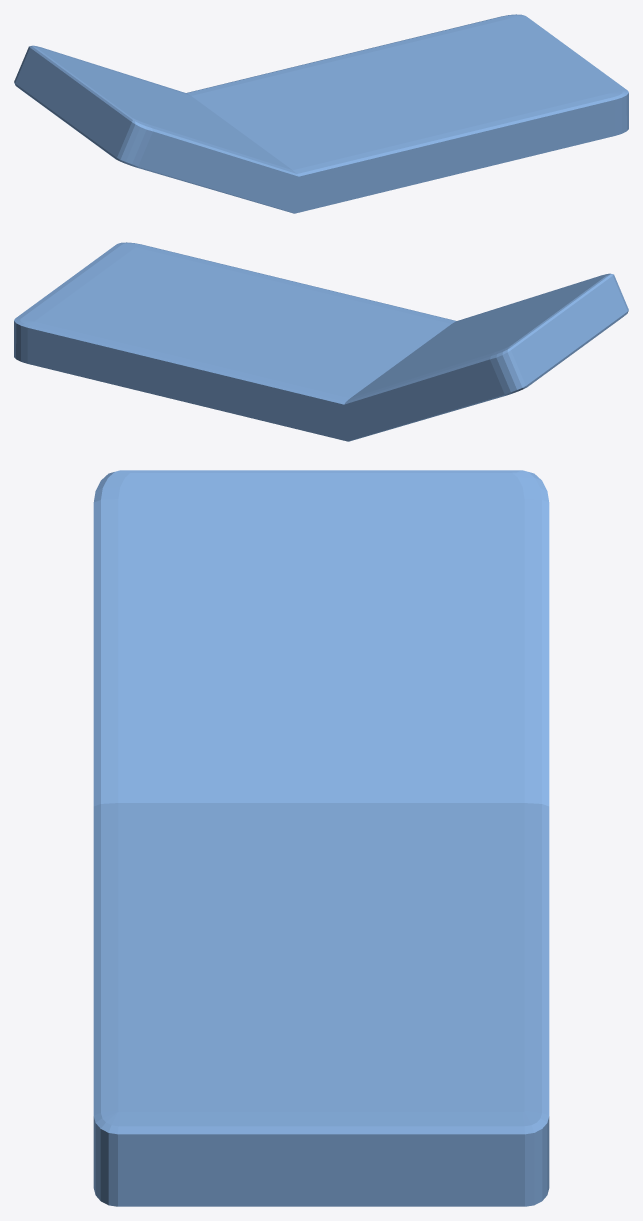
The model's file is Kasur 2.fbx.
3 views of the same model, one above another, from view 1: azimuth 30°, elevation 25°; view 2: azimuth 150°, elevation 25°; view 3: azimuth 270°, elevation 25° (orthographic). The views are drawn at different scales.
Parts seen in each view (by area): view 1: Cube.002; view 2: Cube.002; view 3: Cube.002.
Part boxes in pixels (x1,y1,x2,y2): Cube.002: (14, 14, 628, 213); Cube.002: (14, 242, 628, 441); Cube.002: (93, 470, 549, 1206).
Size of the model in its own units: 805 by 194 by 311.
1 material, 1 textured.
